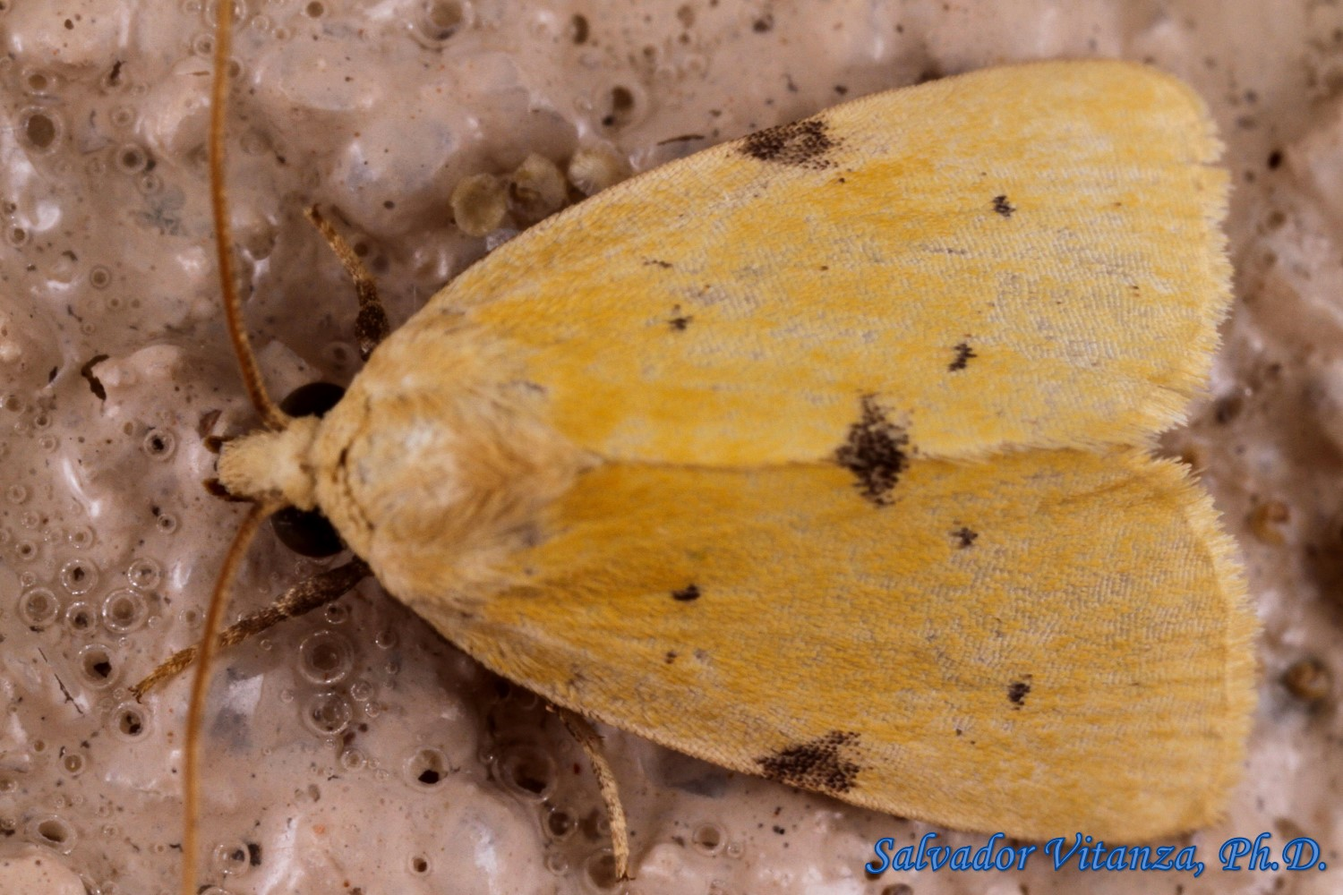Noctuidae: (150, 2, 1237, 894)
